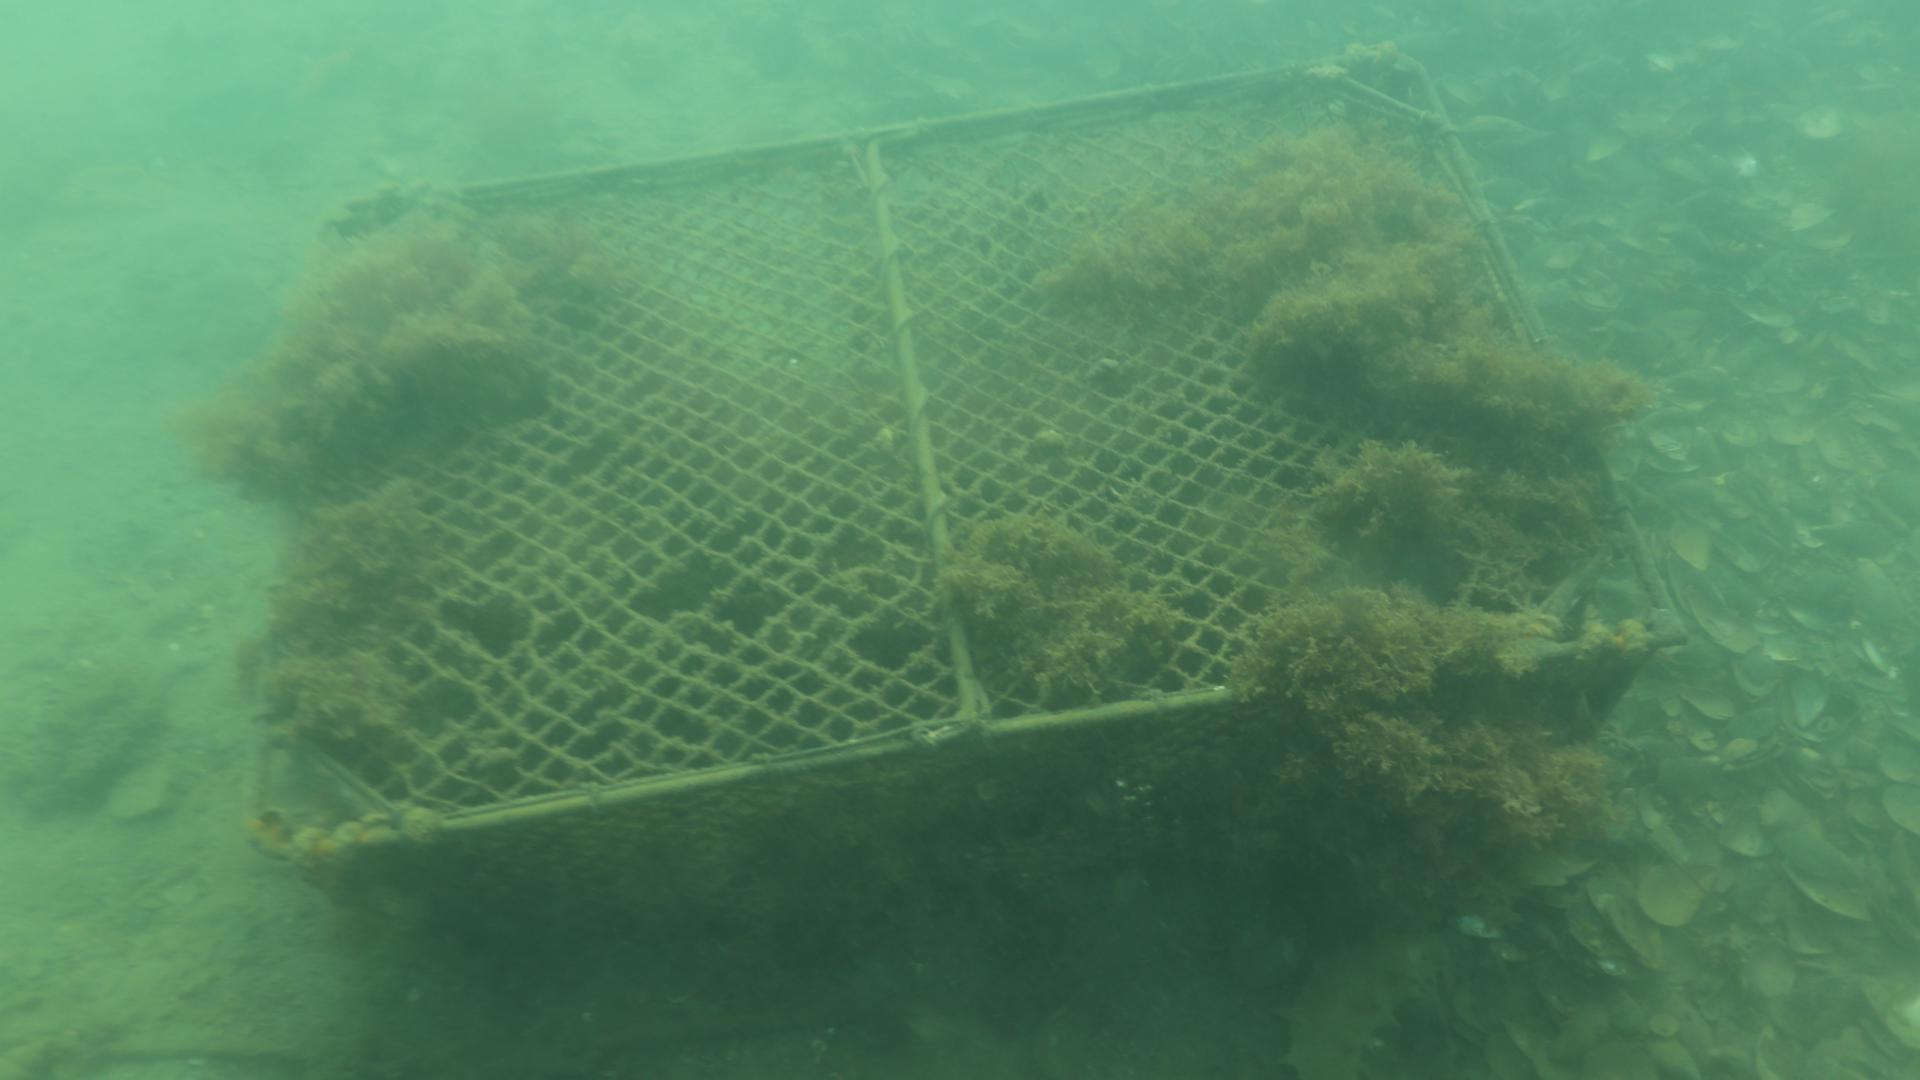rectangular fish trap: (239, 49, 1695, 923)
